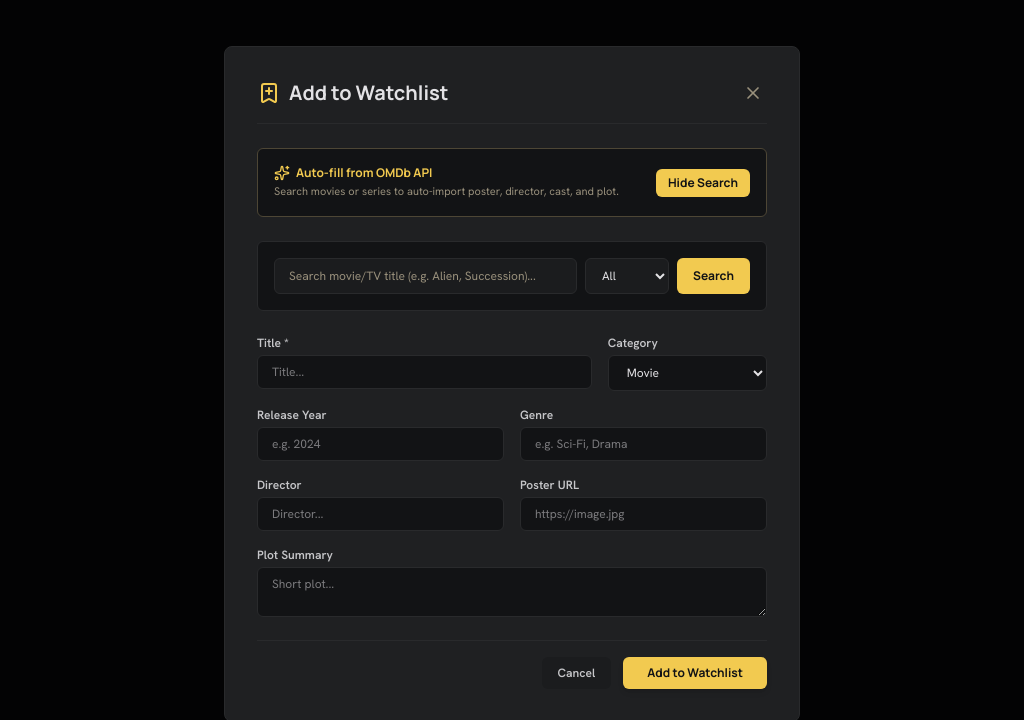
Test: AddWatchlistModal › performs OMDb search and displays results list
In the field with placeholder "Search movie/TV title (e.g. Alien, Succession)...": [426, 276] box [274, 258, 577, 294], type "Interstellar"
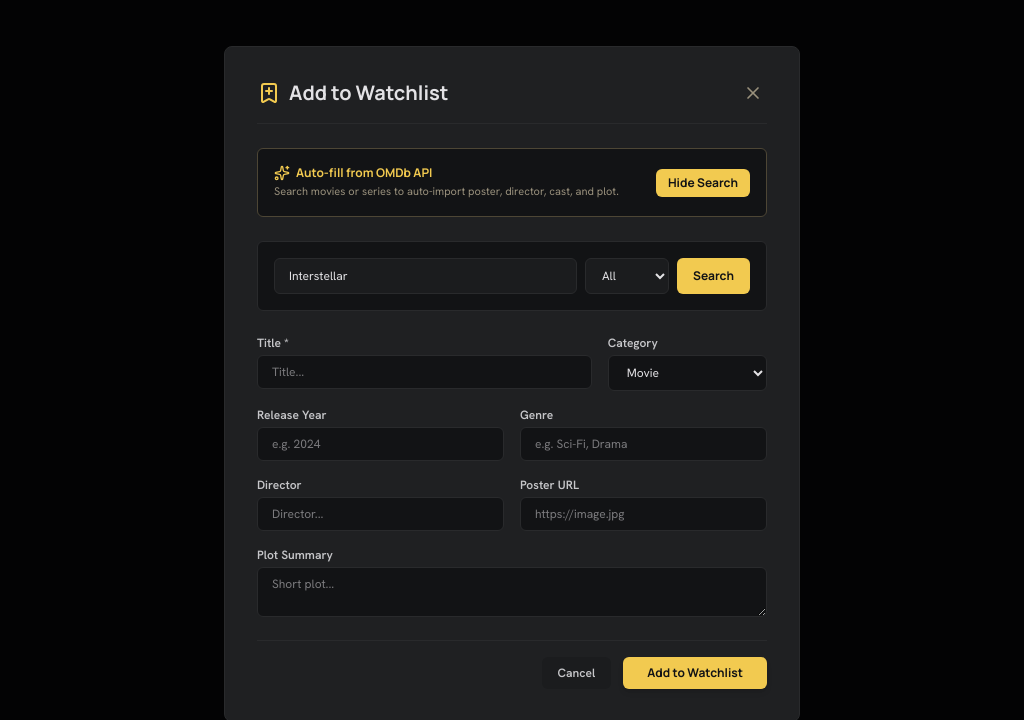
Press Enter in the field with placeholder "Search movie/TV title (e.g. Alien, Succession)...", box [274, 258, 577, 294]
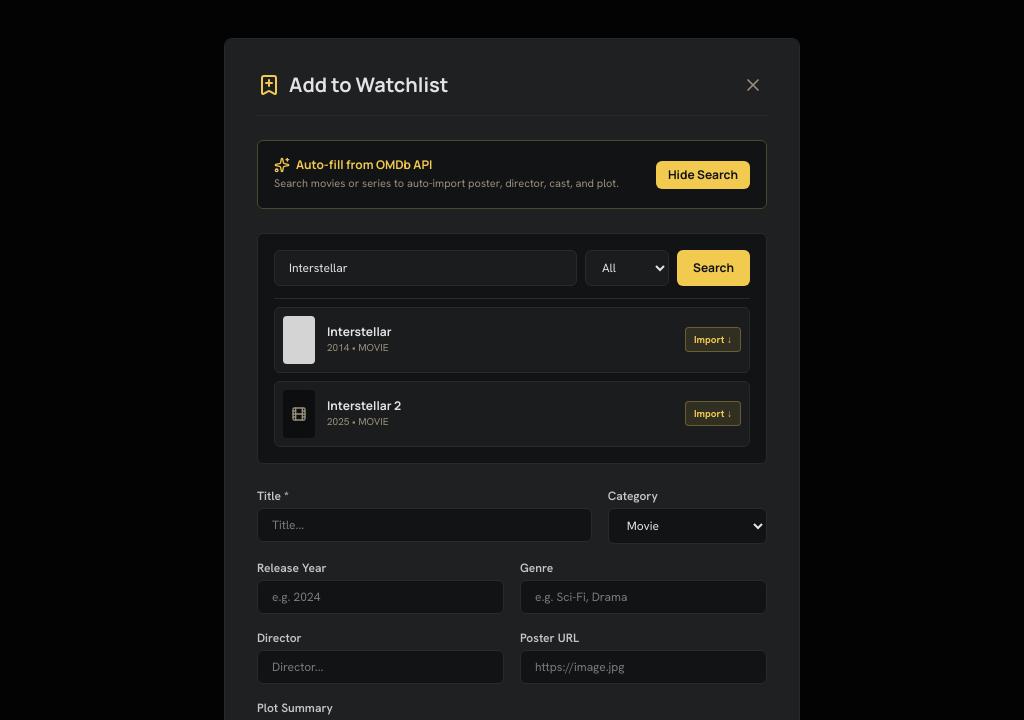
Check: the heading "Interstellar" is shown, box [327, 323, 392, 340]
Check: the text "2014 • MOVIE" is shown, box [327, 341, 388, 354]
Check: the heading "Interstellar 2" is shown, box [327, 397, 401, 414]
